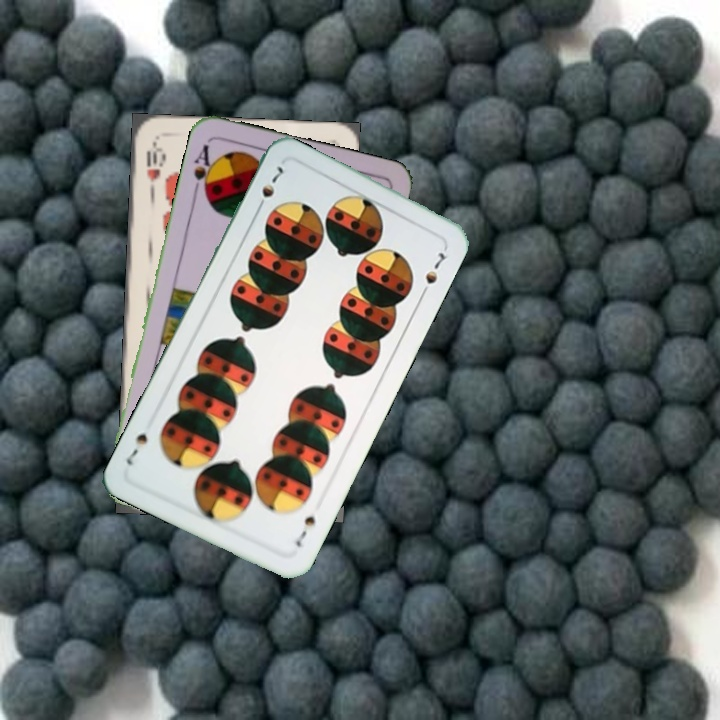H10: (142, 139, 165, 198)
S7: (252, 162, 287, 215), (291, 511, 318, 550)
SA: (189, 140, 219, 200)
